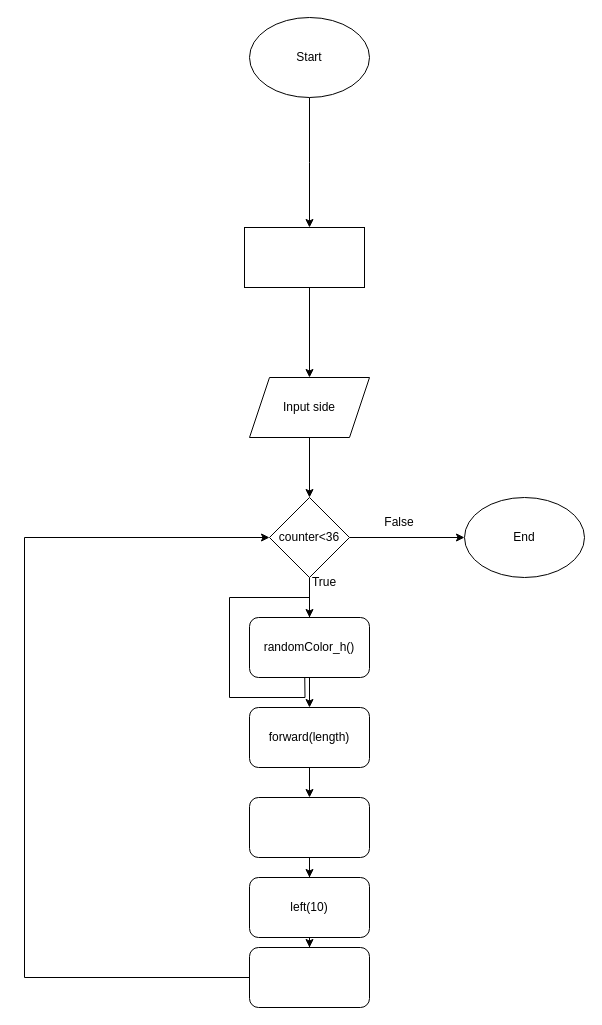
The diagram is 602 pixels wide and 1025 high, and some of its shapes have lost their labels. Here are the shapes that lost their labels. From the top down, the centre of each, then its label:
At (304,257): "Declare length, counter=0".
At (309,827): "goto(0,0)".
At (309,977): "counter++".
